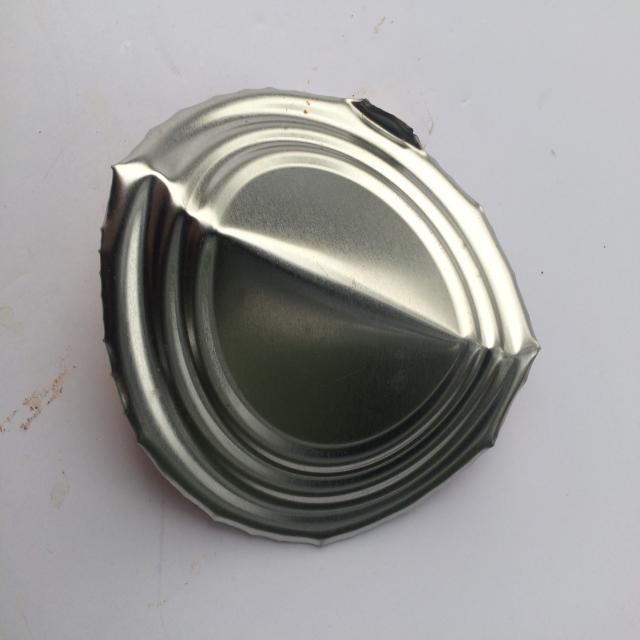metal: (96, 86, 542, 544)
